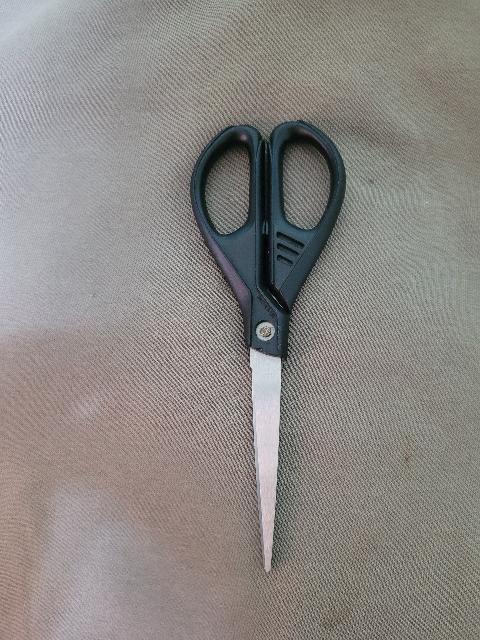Metal: (243, 351, 288, 579)
Plastik: (187, 120, 352, 355)
